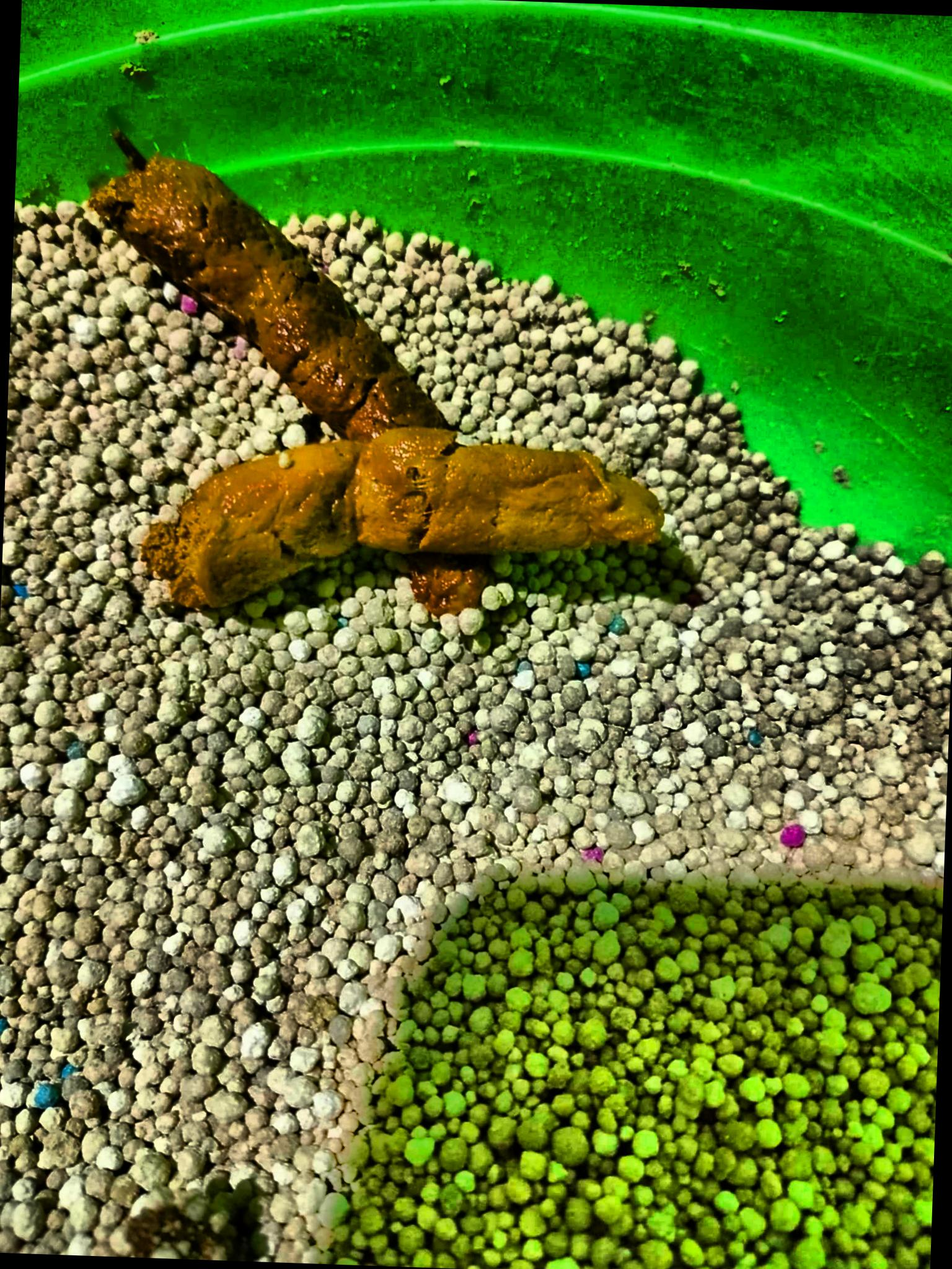poop: (91, 129, 447, 440), (143, 427, 663, 607), (417, 555, 483, 611)
